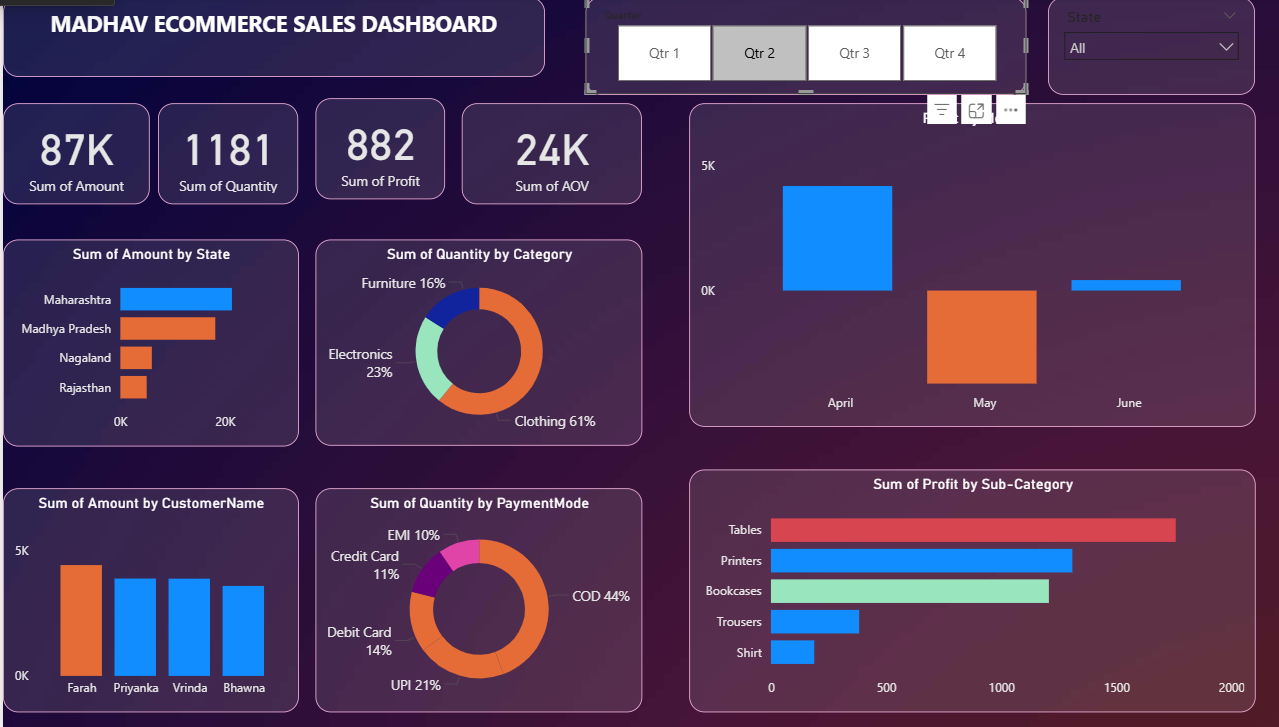

The page's visual inventory and layout, read from the dashboard file:
{"tool":"powerbi","page":{"name":"Page 1","canvas":[1280,720],"ordinal":0},"visuals":[{"type":"textbox","box":[0,0,531.9,78],"z":0},{"type":"columnChart","title":"Profit By Month","fields":{"Y":["Sum(Details.Profit)"],"Category":["Orders.Order Date.Variation.Date Hierarchy.Month"]},"box":[673.6,104.4,556,317.6],"z":1000},{"type":"barChart","fields":{"Category":["Details.Sub-Category"],"Y":["Sum(Details.Profit)"]},"box":[673.6,463.7,556,238.5],"z":2000},{"type":"donutChart","fields":{"Category":["Details.Category"],"Y":["Sum(Details.Quantity)"]},"box":[306.6,238.5,320.9,202.2],"z":3000},{"type":"donutChart","fields":{"Category":["Details.PaymentMode"],"Y":["Sum(Details.Quantity)"]},"box":[306.6,482.4,320.9,219.8],"z":4000},{"type":"card","fields":{"Values":["Sum(Details.Amount)"]},"box":[0,104.4,144,98.9],"z":5000},{"type":"card","fields":{"Values":["Sum(Details.Quantity)"]},"box":[152.7,104.4,137.4,98.9],"z":6000},{"type":"card","fields":{"Values":["Sum(Details.Profit)"]},"box":[306.6,100,127.5,98.9],"z":7000},{"type":"card","fields":{"Values":["Sum(Details.AOV)"]},"box":[450.5,104.4,176.9,98.9],"z":8000},{"type":"barChart","fields":{"Category":["Orders.State"],"Y":["Sum(Details.Amount)"]},"box":[0,238.5,290.1,203.3],"z":9000},{"type":"columnChart","fields":{"Category":["Orders.CustomerName"],"Y":["Sum(Details.Amount)"]},"box":[0,482,290,220],"z":10000},{"type":"slicer","fields":{"Values":["Orders.Order Date.Variation.Date Hierarchy.Quarter"]},"box":[571.4,0,433,95.6],"z":11000},{"type":"slicer","fields":{"Values":["Orders.State"]},"box":[1026.4,0,203.3,95.6],"z":12000}]}

Visuals, with their boxes in screenshot pixels (x1, y1, x2, y2), scaled from the page's 1280x720 canvas onto the 1279x727 screenshot:
textbox: select_region(0, 0, 531, 79)
"Profit By Month" columnChart: select_region(673, 105, 1229, 426)
barChart - Details.Sub-Category x Sum(Details.Profit): select_region(673, 468, 1229, 709)
donutChart - Details.Category x Sum(Details.Quantity): select_region(306, 241, 627, 445)
donutChart - Details.PaymentMode x Sum(Details.Quantity): select_region(306, 487, 627, 709)
card - Sum(Details.Amount): select_region(0, 105, 144, 205)
card - Sum(Details.Quantity): select_region(153, 105, 290, 205)
card - Sum(Details.Profit): select_region(306, 101, 434, 201)
card - Sum(Details.AOV): select_region(450, 105, 627, 205)
barChart - Orders.State x Sum(Details.Amount): select_region(0, 241, 290, 446)
columnChart - Orders.CustomerName x Sum(Details.Amount): select_region(0, 487, 290, 709)
slicer - Orders.Order Date.Variation.Date Hierarchy.Quarter: select_region(571, 0, 1004, 97)
slicer - Orders.State: select_region(1026, 0, 1229, 97)
